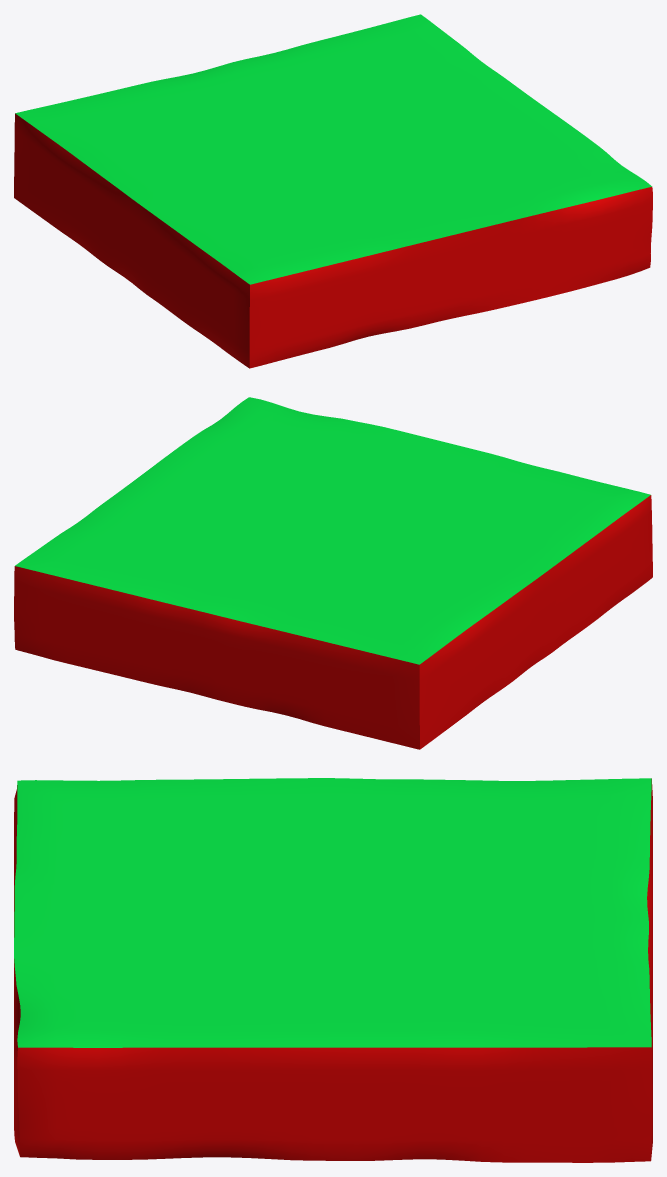
File: slab.fbx
3 renders of one model, top to bottom at view 1: azimuth 30°, elevation 25°; view 2: azimuth 150°, elevation 25°; view 3: azimuth 270°, elevation 25°, orthographic. The views are drawn at different scales.
Visible parts, largest first — view 1: pCube1; view 2: pCube1; view 3: pCube1.
Part boxes in pixels (x1=…): pCube1: x1=14, y1=14, x2=652, y2=368; pCube1: x1=14, y1=397, x2=652, y2=749; pCube1: x1=14, y1=778, x2=652, y2=1162.
Bounding box in the file's own units: 5 × 1 × 5.
